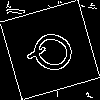Q: (25, 25, 87, 83)
